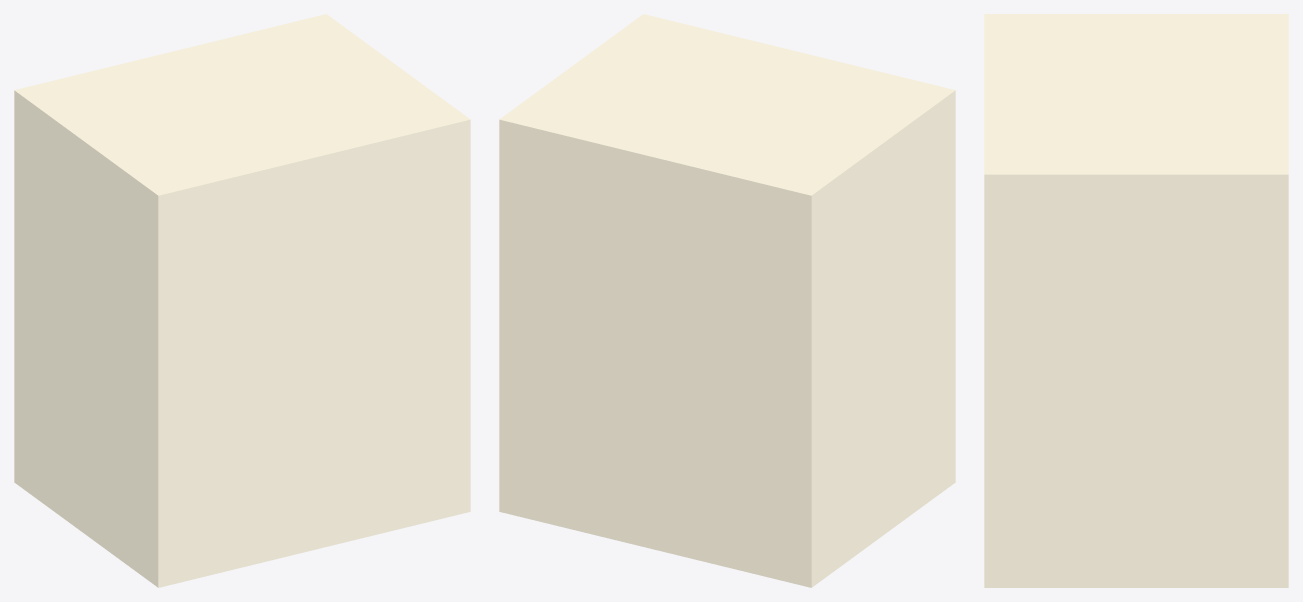
Rendered from 吉吉喵的腿.gltf.
3 renders of one model, left to right at view 1: azimuth 30°, elevation 25°; view 2: azimuth 150°, elevation 25°; view 3: azimuth 270°, elevation 25°, orthographic. The views are drawn at different scales.
Visible parts, largest first — view 1: Object; view 2: Object; view 3: Object.
Boxes of the visible parts, bbox=[...] form: Object: bbox=[14, 14, 470, 587]; Object: bbox=[499, 14, 955, 587]; Object: bbox=[984, 14, 1288, 587].
Size of the model in its own units: 10 by 12 by 8.
Materials: 1 (1 with a texture image).
